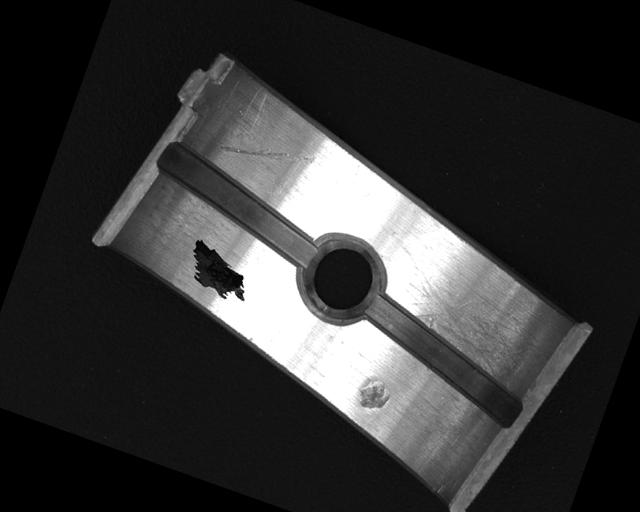blot: (179, 235, 261, 307)
bruise: (352, 370, 396, 415)
gap: (345, 289, 542, 429), (143, 138, 337, 271)
hole: (290, 227, 393, 329)
nick: (216, 124, 317, 183)
scratch: (372, 244, 565, 390)
